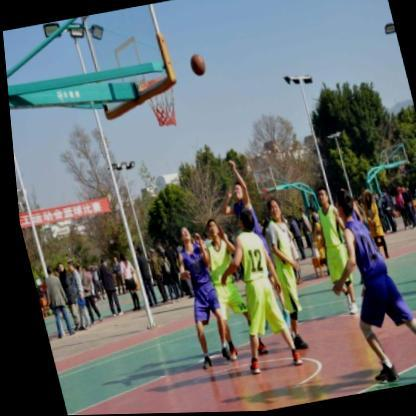basketball: (186, 53, 206, 78)
